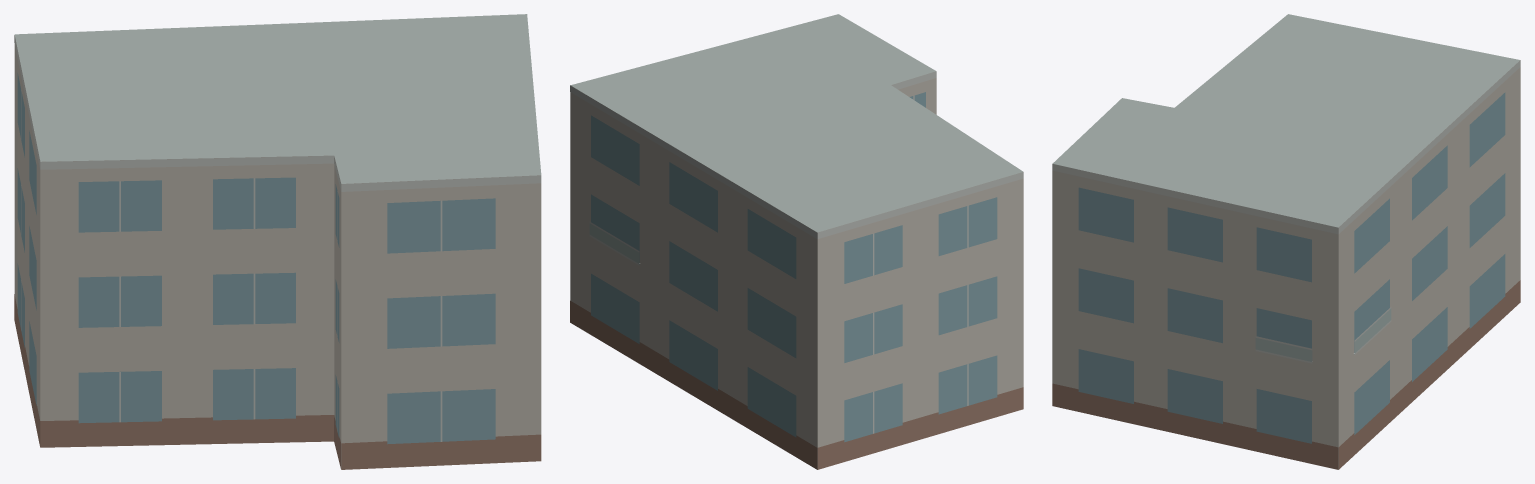
File: survey-upis-32502530.glb
3 renders of one model, left to right at view 1: azimuth 30°, elevation 25°; view 2: azimuth 150°, elevation 25°; view 3: azimuth 270°, elevation 25°, orthographic. The views are drawn at different scales.
Visible parts, largest first — view 1: survey-upis-32502530.tmp; view 2: survey-upis-32502530.tmp; view 3: survey-upis-32502530.tmp.
Part boxes in pixels (box(x1,y1,x2,y2)): survey-upis-32502530.tmp: box(14, 14, 541, 469); survey-upis-32502530.tmp: box(570, 14, 1023, 469); survey-upis-32502530.tmp: box(1052, 14, 1520, 469).
Bounding box in the file's own units: 16.46 × 8.7 × 15.24.
